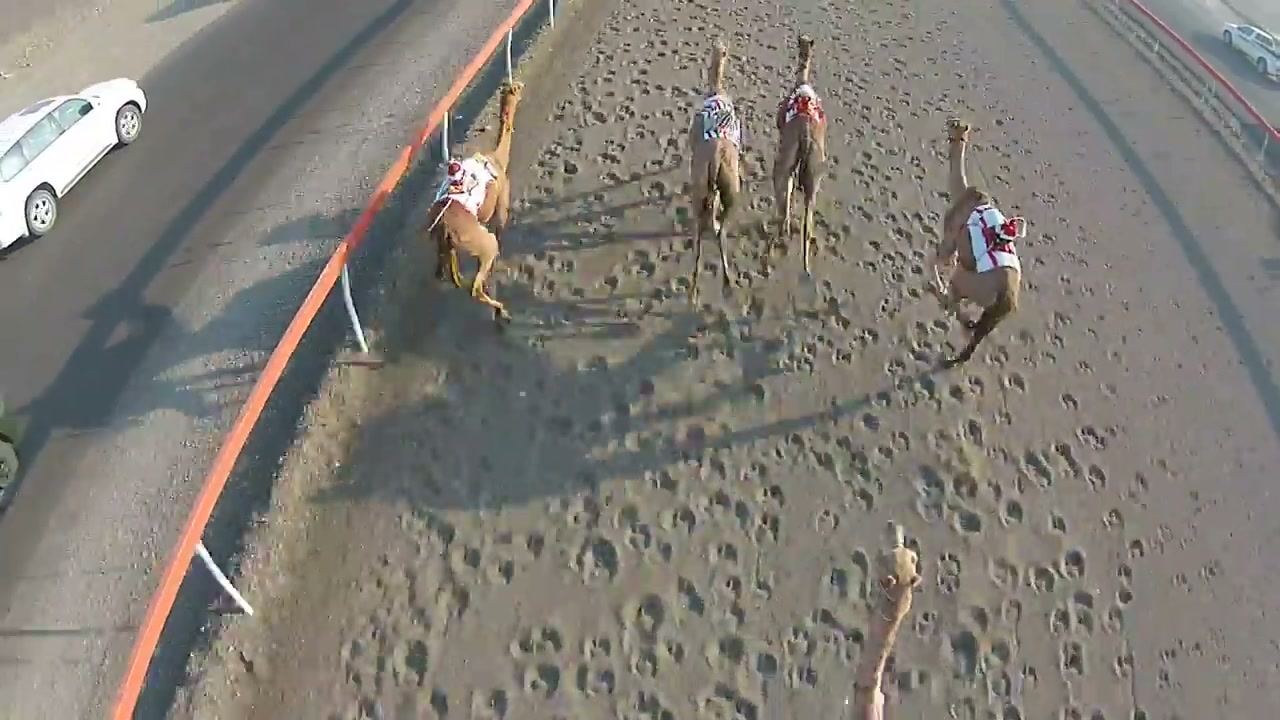animal_footprint: (184, 0, 1276, 719), (510, 626, 564, 698), (937, 552, 960, 594)
